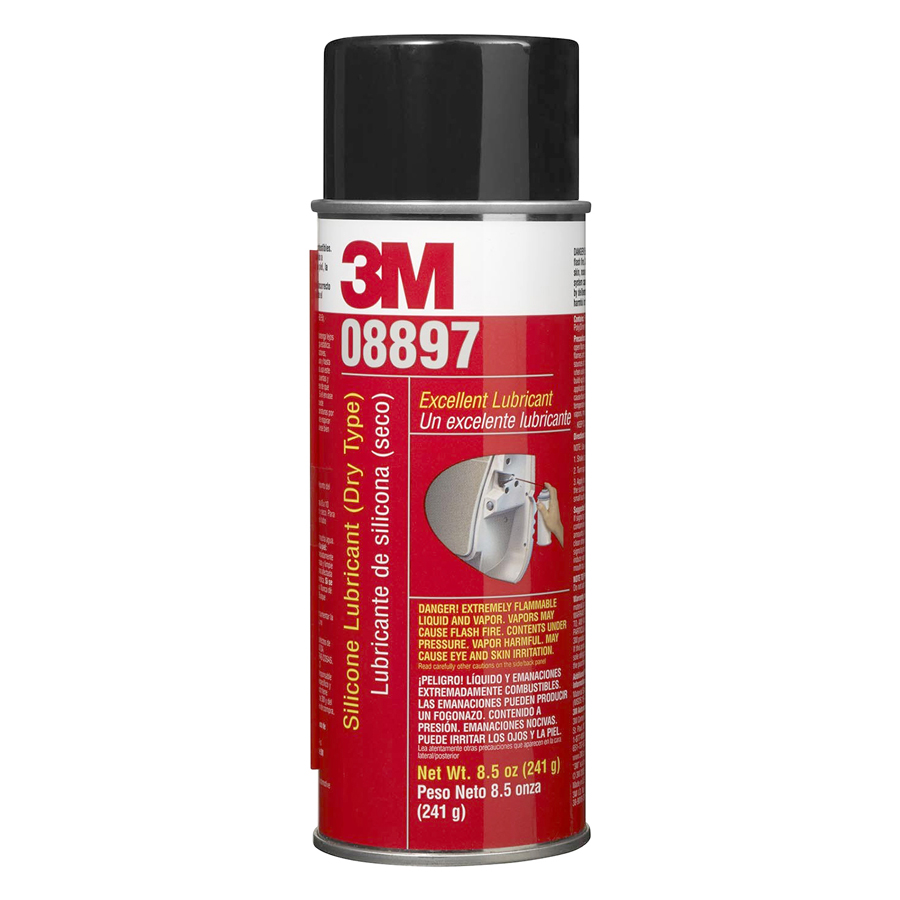3M: (331, 228, 464, 315)
